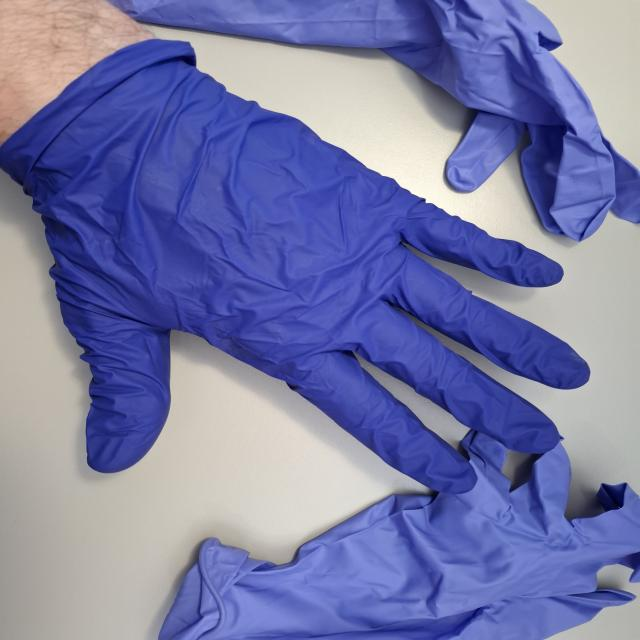glove_on: (2, 39, 594, 498)
